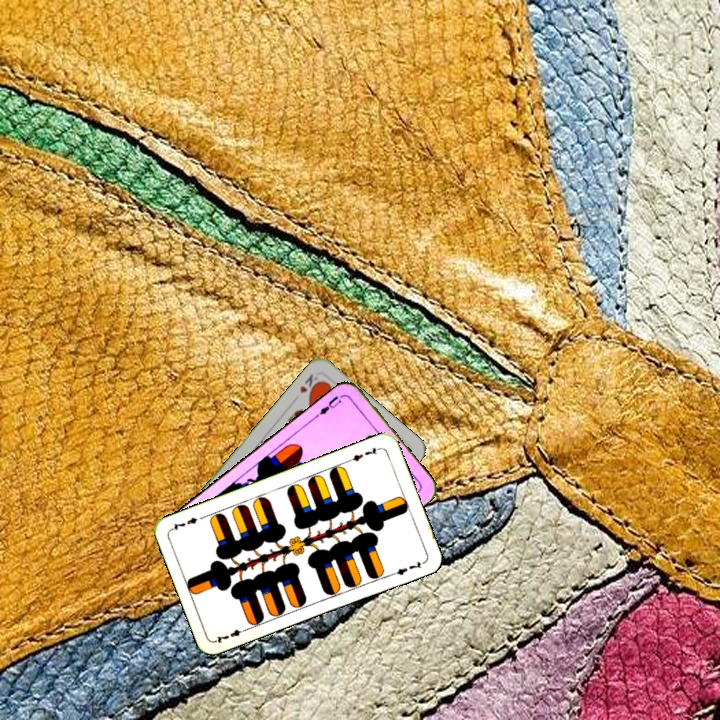E7: (344, 443, 383, 465), (212, 624, 251, 646)
EU: (312, 391, 347, 420)
HK: (295, 370, 323, 398)
